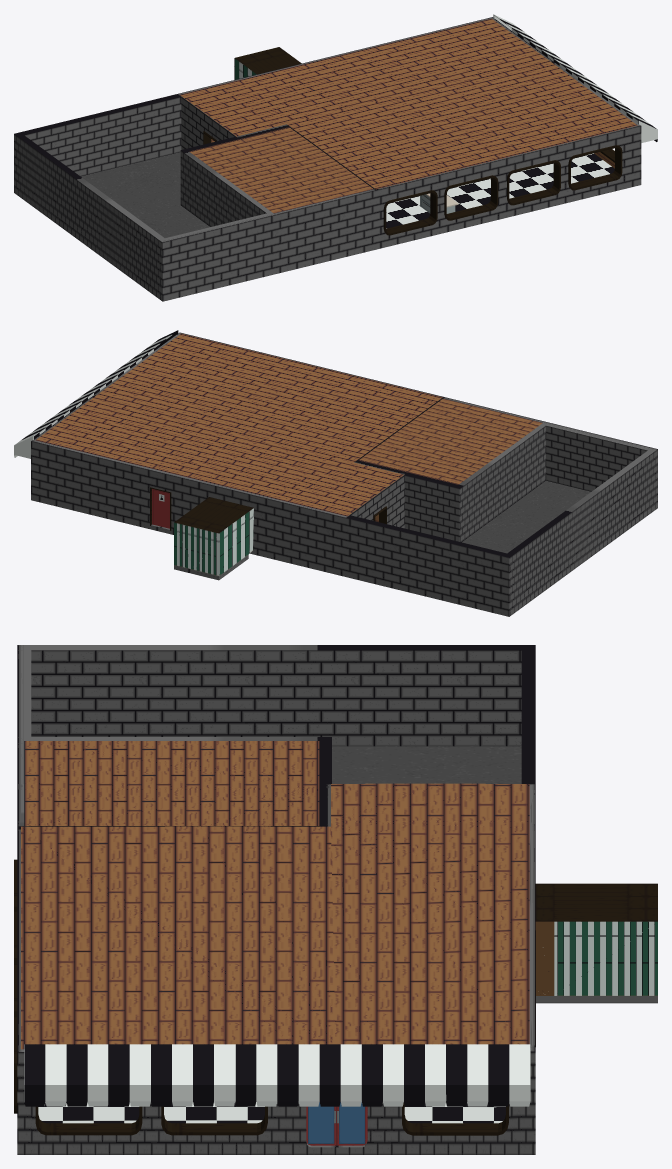
File: VERDADEIROEIRO.fbx
3 views of the same model, one above another, from view 1: azimuth 30°, elevation 25°; view 2: azimuth 150°, elevation 25°; view 3: azimuth 270°, elevation 25° (orthographic). The views are drawn at different scales.
Parts seen in each view (by area): view 1: Chão cozinha.001, O Cafe, Paredes Back Alley, Chao Escritório.001, Chão Back Alley, Chão cozinha, Janelas, Flanela, teto banheiro; view 2: Chão cozinha.001, O Cafe, Paredes Back Alley, Chao Escritório.001, Chão Back Alley, Parede banheiro, Flanela, teto banheiro, Porta Baheiro F; view 3: Chão cozinha.001, Paredes Back Alley, Flanela, O Cafe, Chao Escritório.001, Parede banheiro, Chão Back Alley, Chão cozinha, Janelas, teto banheiro, Porta do Café.
Part boxes in pixels (<box>): Chão cozinha.001: <box>180,18,637,189</box>; O Cafe: <box>14,17,641,301</box>; Paredes Back Alley: <box>24,97,266,226</box>; Chao Escritório.001: <box>189,127,373,213</box>; Chão Back Alley: <box>81,152,209,237</box>; Chão cozinha: <box>386,153,614,228</box>; Janelas: <box>383,145,622,235</box>; Flanela: <box>493,14,657,142</box>; teto banheiro: <box>235,47,301,74</box>; Chão cozinha.001: <box>35,333,442,516</box>; O Cafe: <box>31,332,657,616</box>; Paredes Back Alley: <box>350,426,647,542</box>; Chao Escritório.001: <box>359,398,542,484</box>; Chão Back Alley: <box>462,480,590,553</box>; Parede banheiro: <box>174,508,253,575</box>; Flanela: <box>14,330,178,458</box>; teto banheiro: <box>174,497,253,533</box>; Porta Baheiro F: <box>152,489,169,528</box>; Chão cozinha.001: <box>21,783,529,1049</box>; Paredes Back Alley: <box>31,650,521,746</box>; Flanela: <box>24,1044,530,1106</box>; O Cafe: <box>17,645,657,1154</box>; Chao Escritório.001: <box>24,741,319,825</box>; Parede banheiro: <box>535,921,657,995</box>; Chão Back Alley: <box>332,746,521,783</box>; Chão cozinha: <box>38,1101,505,1123</box>; Janelas: <box>14,859,508,1135</box>; teto banheiro: <box>535,883,657,921</box>; Porta do Café: <box>306,1102,367,1145</box>.
Size of the model in its own units: 3582 by 435 by 2306.
16 materials, 16 textured.
